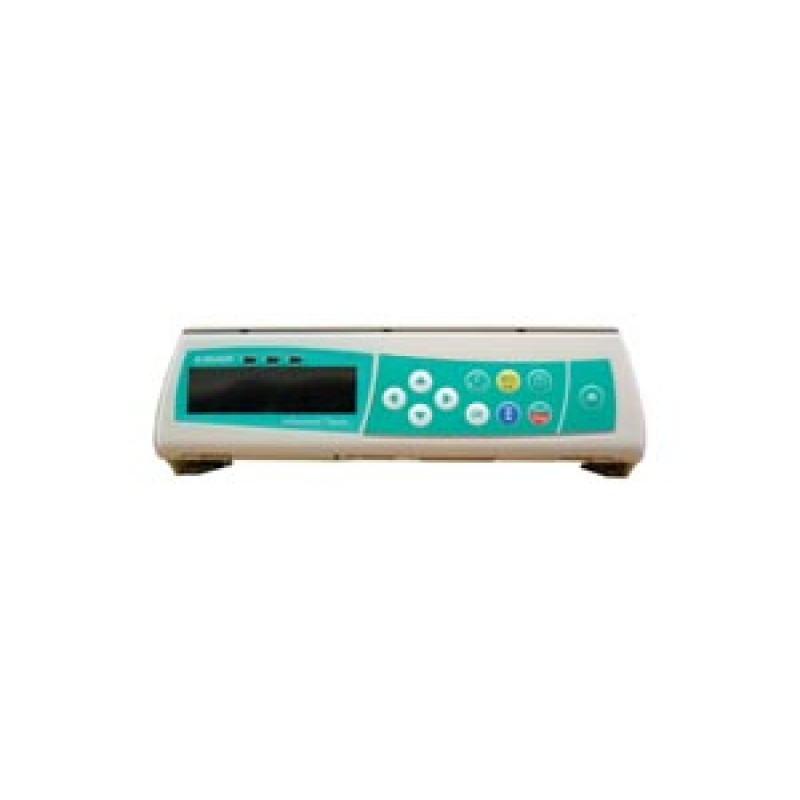BBraun Infusomat Space: (149, 317, 645, 490)
